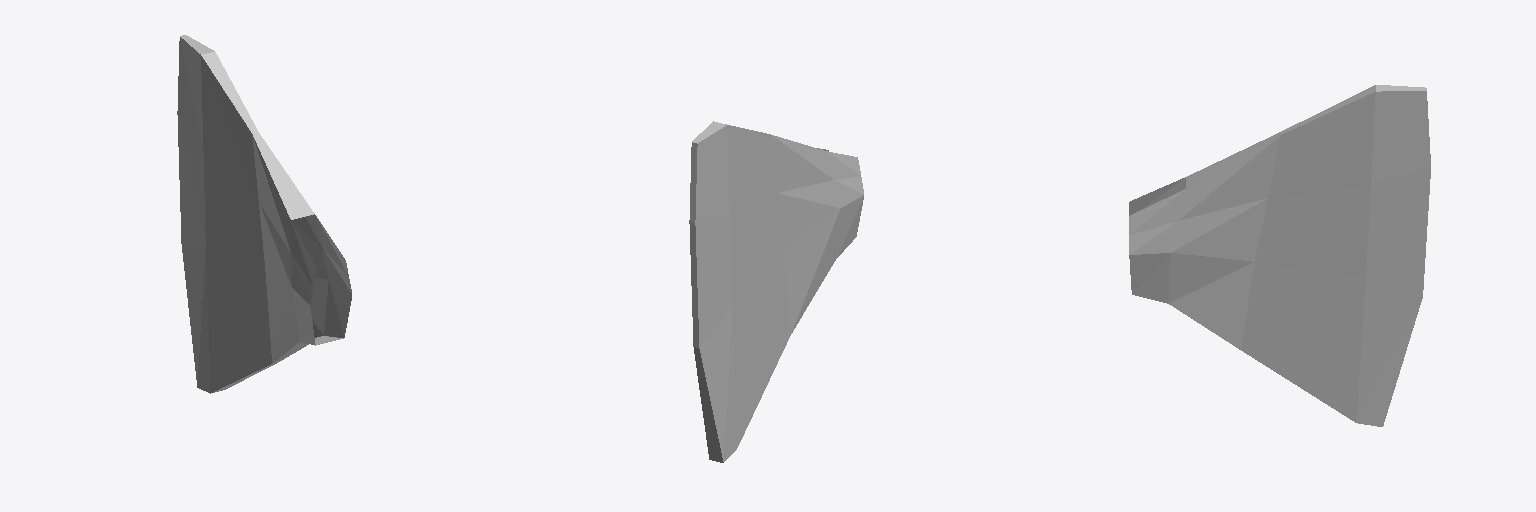
File: PezC3.obj
The picture shows the model from 3 angles: view 1: azimuth 30°, elevation 25°; view 2: azimuth 150°, elevation 25°; view 3: azimuth 270°, elevation 25°; orthographic projection.
Parts seen in each view (by area): view 1: polySurface2 TropicalFish01:TropicalFish01; view 2: polySurface2 TropicalFish01:TropicalFish01; view 3: polySurface2 TropicalFish01:TropicalFish01.
Part boxes in pixels (x1,y1,x2,y2): polySurface2 TropicalFish01:TropicalFish01: (177,35,351,393); polySurface2 TropicalFish01:TropicalFish01: (689,121,863,462); polySurface2 TropicalFish01:TropicalFish01: (1129,85,1430,426).
Bounding box in the file's own units: 0.3703 × 2.81 × 2.29.